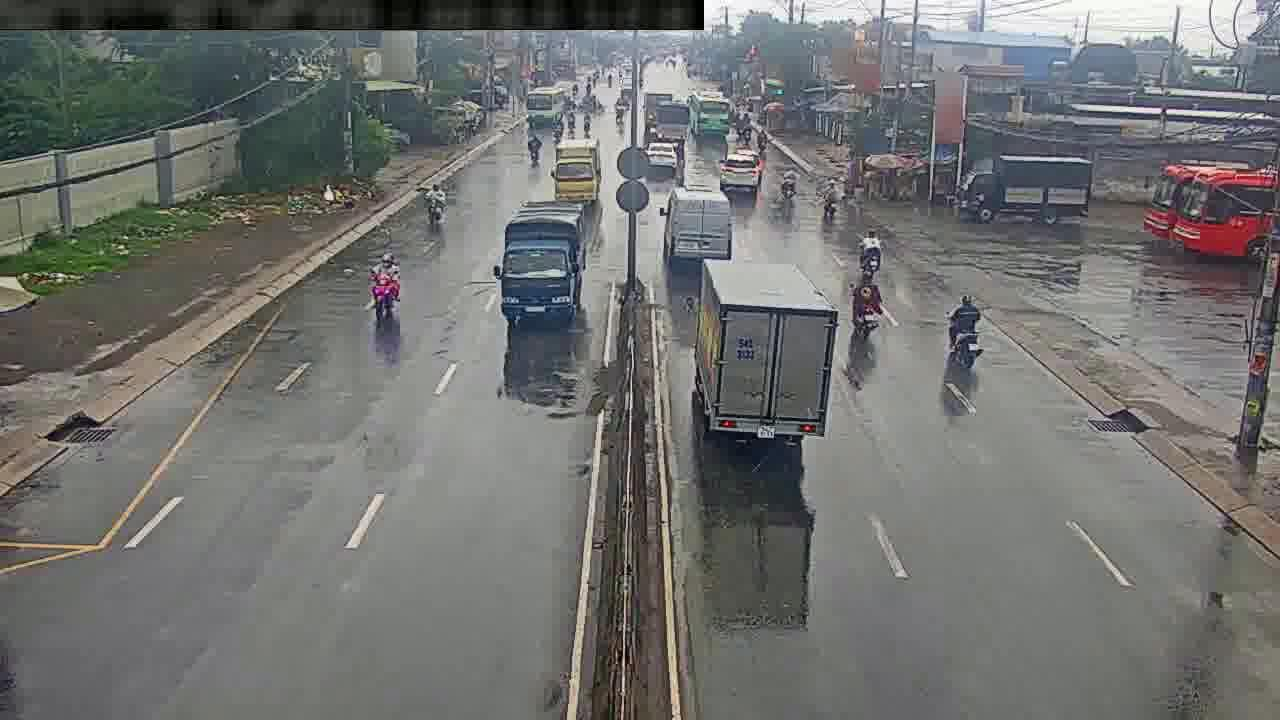14: (667, 190, 734, 262)
8: (696, 260, 836, 454), (500, 204, 588, 319), (551, 140, 600, 206)
container: (716, 156, 761, 195)
motorbike: (369, 253, 400, 329), (847, 272, 880, 338), (951, 288, 981, 359), (858, 231, 885, 294), (423, 175, 445, 230), (779, 161, 796, 205), (824, 180, 841, 224), (525, 131, 544, 160)
